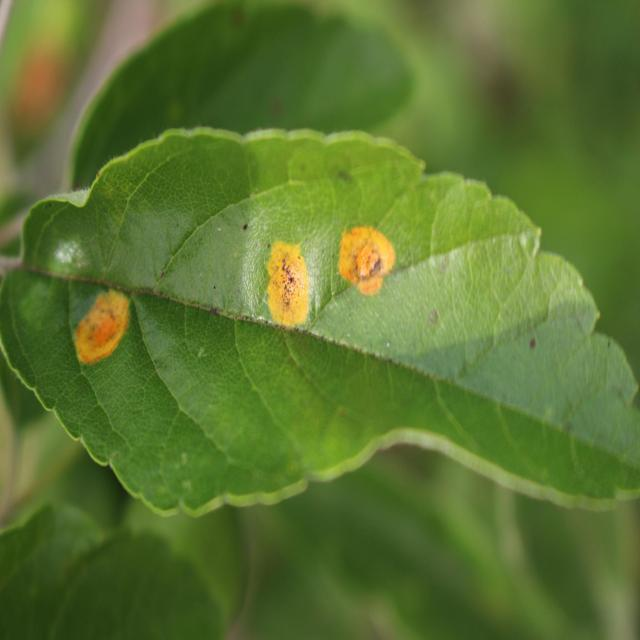Rust: (6, 22, 74, 170), (65, 288, 140, 370), (262, 227, 314, 339), (332, 218, 399, 302)
